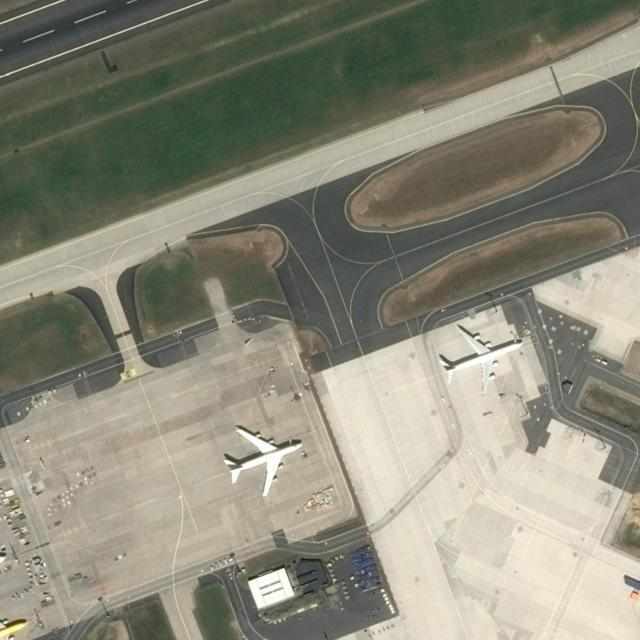Aircraft: (218, 416, 304, 496), (434, 323, 526, 385), (0, 611, 34, 639)
